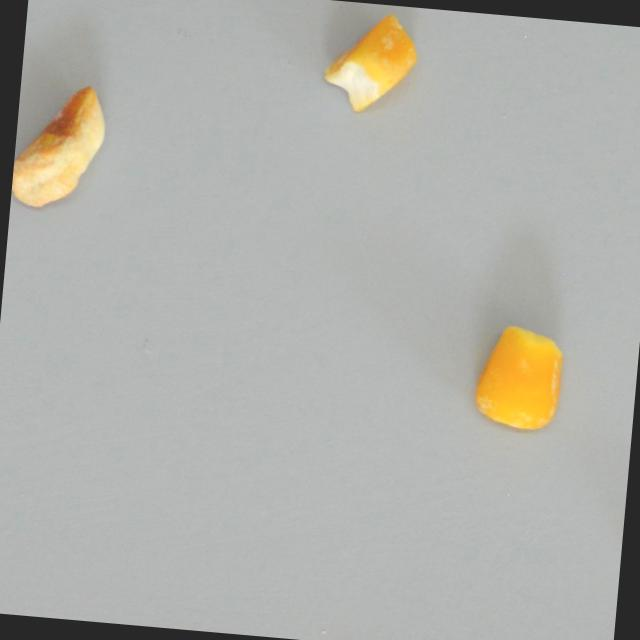dañado: (9, 79, 109, 212)
pelicula: (318, 4, 423, 119), (469, 320, 568, 434)
